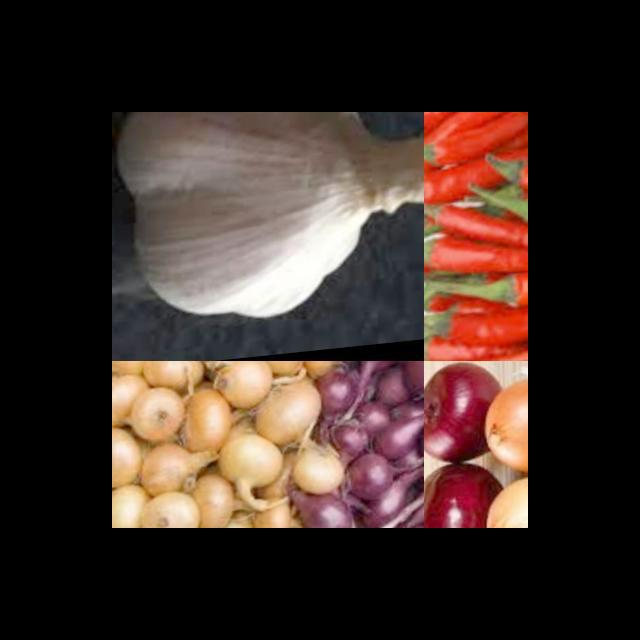garlic: (112, 112, 424, 344)
onion: (112, 361, 327, 528), (273, 361, 424, 528), (424, 361, 499, 476), (424, 463, 507, 528), (477, 377, 528, 481), (470, 477, 528, 528)
